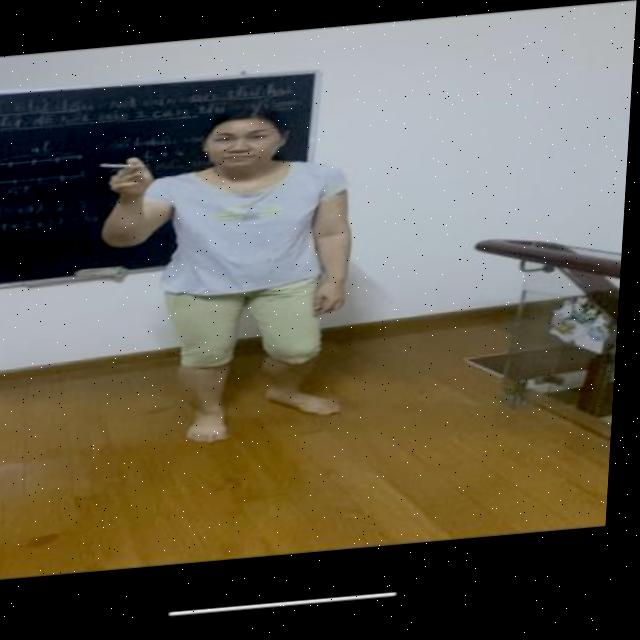cigarette: (99, 162, 139, 174)
